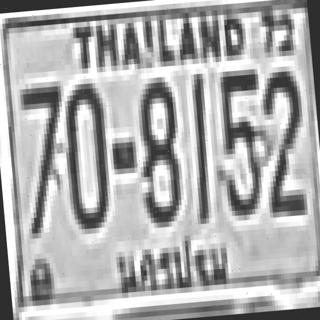N00: (58, 75, 111, 227)
N01: (185, 74, 215, 219)
N02: (258, 66, 308, 212)
N05: (213, 64, 267, 216)
N07: (16, 81, 70, 234)
N08: (132, 74, 182, 221)
P28: (104, 224, 236, 308)
